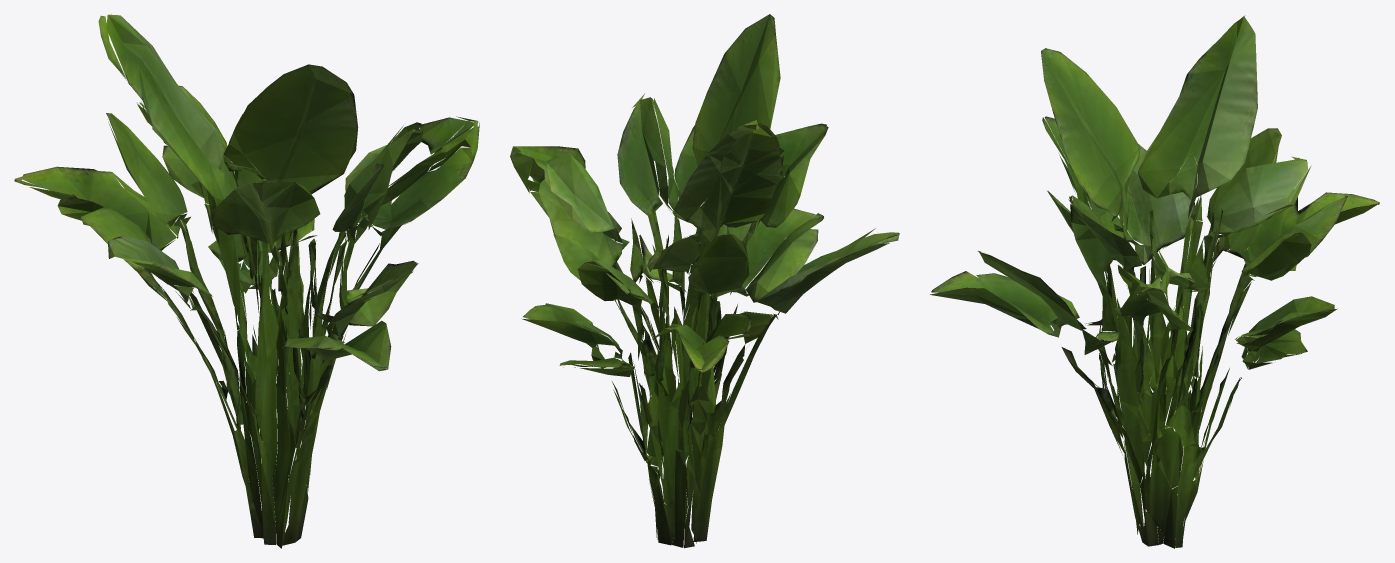
Rendered from x-bananier.glb.
The picture shows the model from 3 angles, left to right: view 1: azimuth 30°, elevation 25°; view 2: azimuth 150°, elevation 25°; view 3: azimuth 270°, elevation 25°; orthographic projection. The views are drawn at different scales.
Parts seen in each view (by area): view 1: geometry_0; view 2: geometry_0; view 3: geometry_0.
Part boxes in pixels (left/top/right/bottom): geometry_0: left=14, top=14, right=479, bottom=548; geometry_0: left=510, top=14, right=899, bottom=548; geometry_0: left=930, top=15, right=1379, bottom=548.
Bounding box in the file's own units: 0.7878 × 1 × 0.8594.
Materials: 1 (1 with a texture image).
